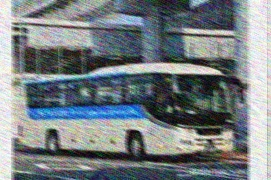bus: (19, 63, 236, 160)
